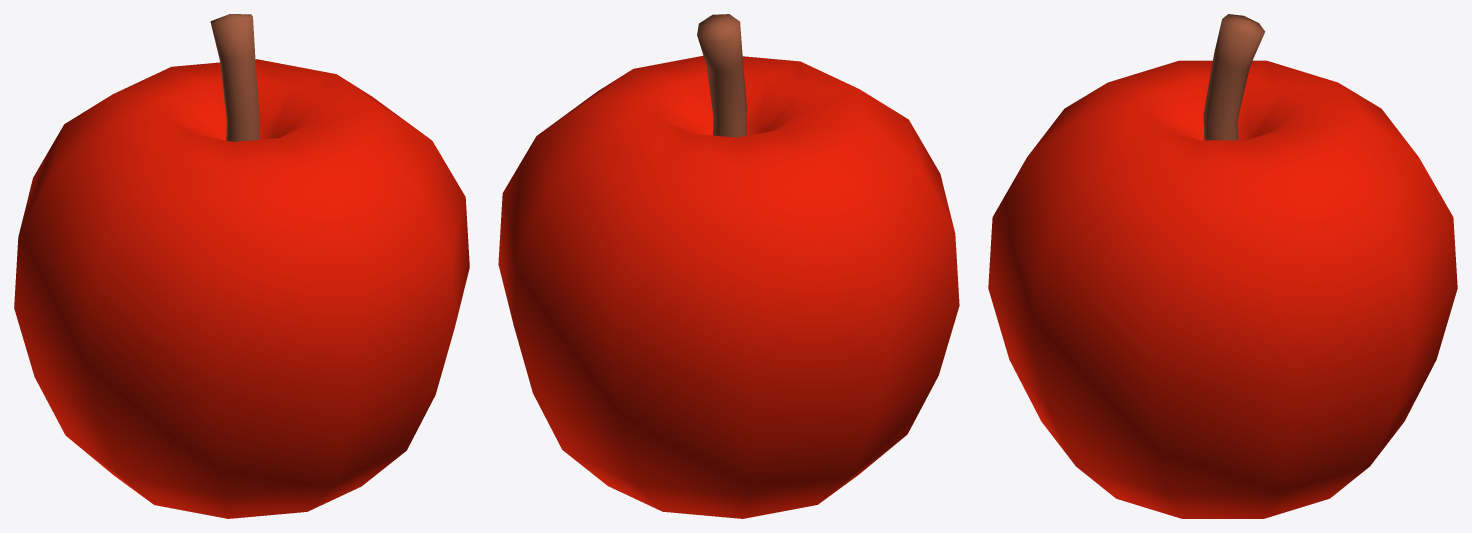
File: poma per provar a unity.fbx
3 views of the same model, side by side, from view 1: azimuth 30°, elevation 25°; view 2: azimuth 150°, elevation 25°; view 3: azimuth 270°, elevation 25° (orthographic).
Parts seen in each view (by area): view 1: Poma, Tija; view 2: Poma, Tija; view 3: Poma, Tija.
Part boxes in pixels (x1,y1,x2,y2): Poma: (14,59,469,518); Tija: (210,14,259,141); Poma: (498,55,959,518); Tija: (697,14,746,137); Poma: (988,60,1457,518); Tija: (1203,14,1265,140).
Bounding box in the file's own units: 18.43 × 20.97 × 19.37.
